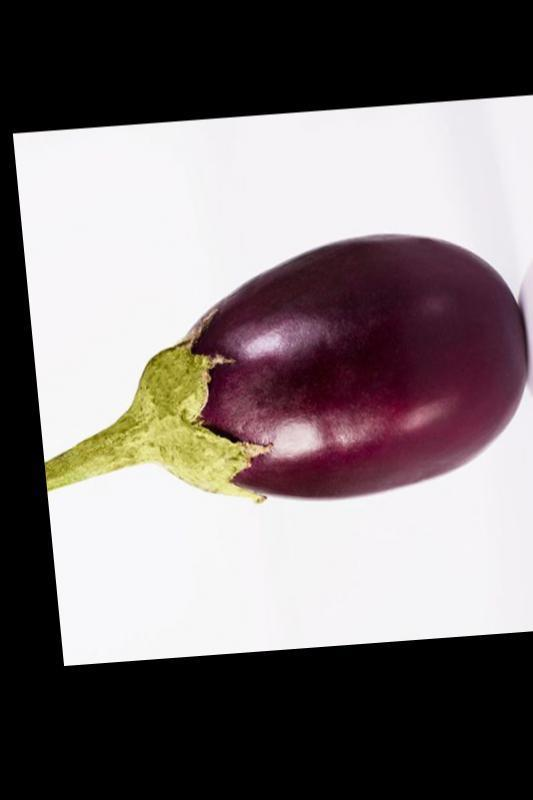eggplant: (19, 226, 532, 535)
